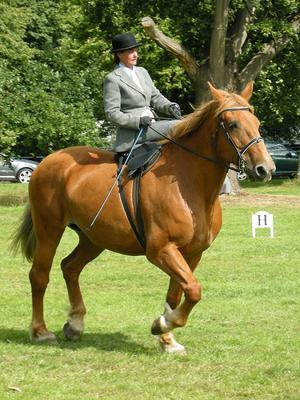person: (104, 30, 188, 157)
